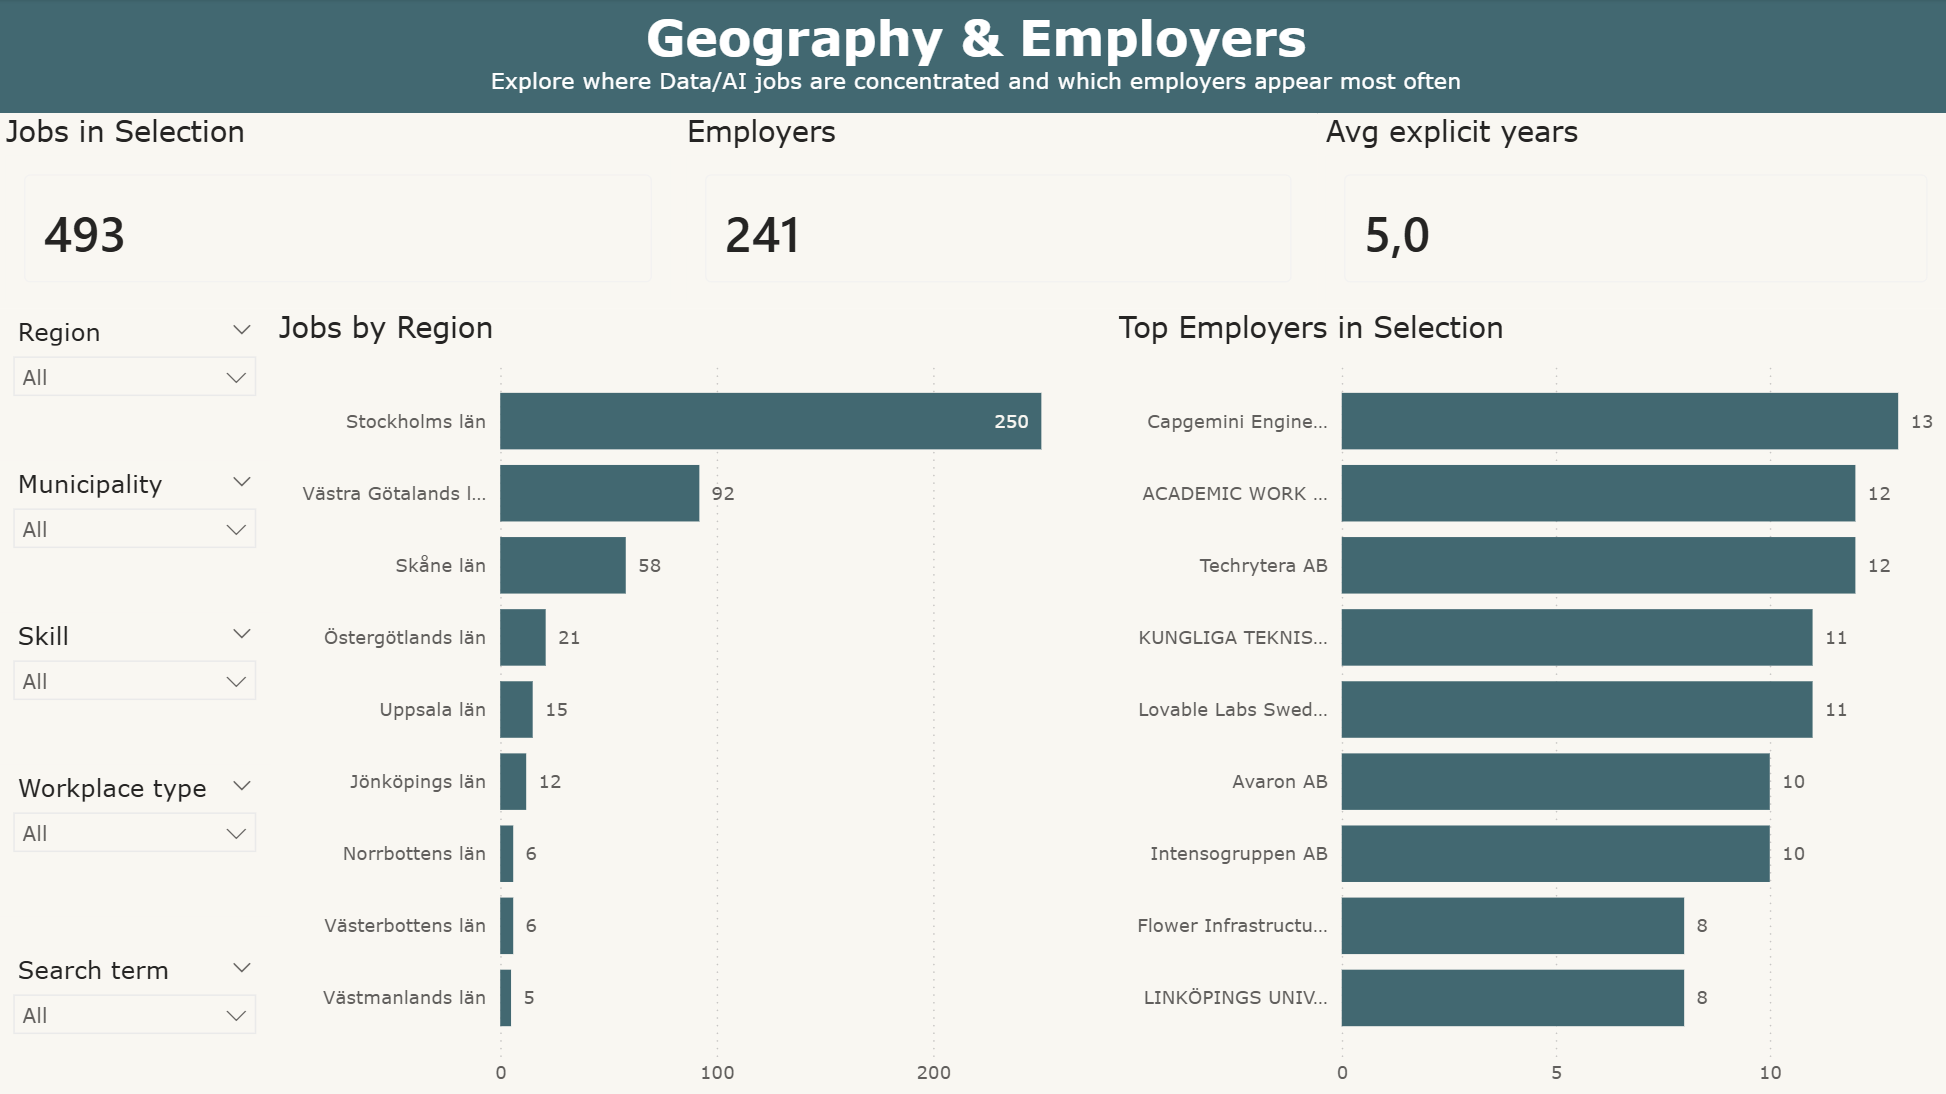

Layout of this report page (visuals, bound fields, positions):
{"tool":"powerbi","page":{"name":"Geography & Employers","canvas":[1280,720],"ordinal":2},"visuals":[{"type":"textbox","box":[0,0,1280,74.6],"z":0},{"type":"slicer","fields":{"Values":["jobs.region"]},"box":[0,202.9,178.7,99.5],"z":1},{"type":"slicer","fields":{"Values":["jobs.municipality"]},"box":[0,302.3,178.7,99.5],"z":2},{"type":"slicer","fields":{"Values":["job_skills.skill"]},"box":[0,401.8,178.7,99.5],"z":3},{"type":"slicer","fields":{"Values":["jobs.workplace_type"]},"box":[0,501.3,178.7,99.5],"z":4},{"type":"slicer","fields":{"Values":["jobs.search_term"]},"box":[0,620.4,178.7,99.5],"z":5},{"type":"cardVisual","title":"Jobs in Selection","fields":{"Data":["jobs.Job Count"]},"box":[0,74.6,445.6,128.3],"z":6},{"type":"cardVisual","title":"Employers","fields":{"Data":["jobs.Employer Count"]},"box":[445.6,74.6,418.2,128.3],"z":7},{"type":"cardVisual","title":"Avg explicit years","fields":{"Data":["jobs.Average Explicit Years"]},"box":[863.8,74.6,416.2,128.3],"z":8},{"type":"clusteredBarChart","title":"Jobs by Region","fields":{"Category":["jobs.Region"],"Y":["jobs.Job Count"]},"box":[178.7,202.9,549.7,517],"z":9},{"type":"clusteredBarChart","title":"Top Employers in Selection","fields":{"Category":["jobs.employer"],"Y":["jobs.Job Count"]},"box":[728.3,202.9,551.7,517],"z":10}]}

Visuals, with their boxes in screenshot pixels (x1, y1, x2, y2), scaled from the page's 1280x720 canvas onto the 1946x1094 screenshot:
textbox: [0, 0, 1945, 113]
slicer - jobs.region: [0, 308, 272, 459]
slicer - jobs.municipality: [0, 459, 272, 611]
slicer - job_skills.skill: [0, 611, 272, 762]
slicer - jobs.workplace_type: [0, 762, 272, 913]
slicer - jobs.search_term: [0, 943, 272, 1093]
"Jobs in Selection" cardVisual: [0, 113, 677, 308]
"Employers" cardVisual: [677, 113, 1313, 308]
"Avg explicit years" cardVisual: [1313, 113, 1945, 308]
"Jobs by Region" clusteredBarChart: [272, 308, 1107, 1093]
"Top Employers in Selection" clusteredBarChart: [1107, 308, 1945, 1093]
